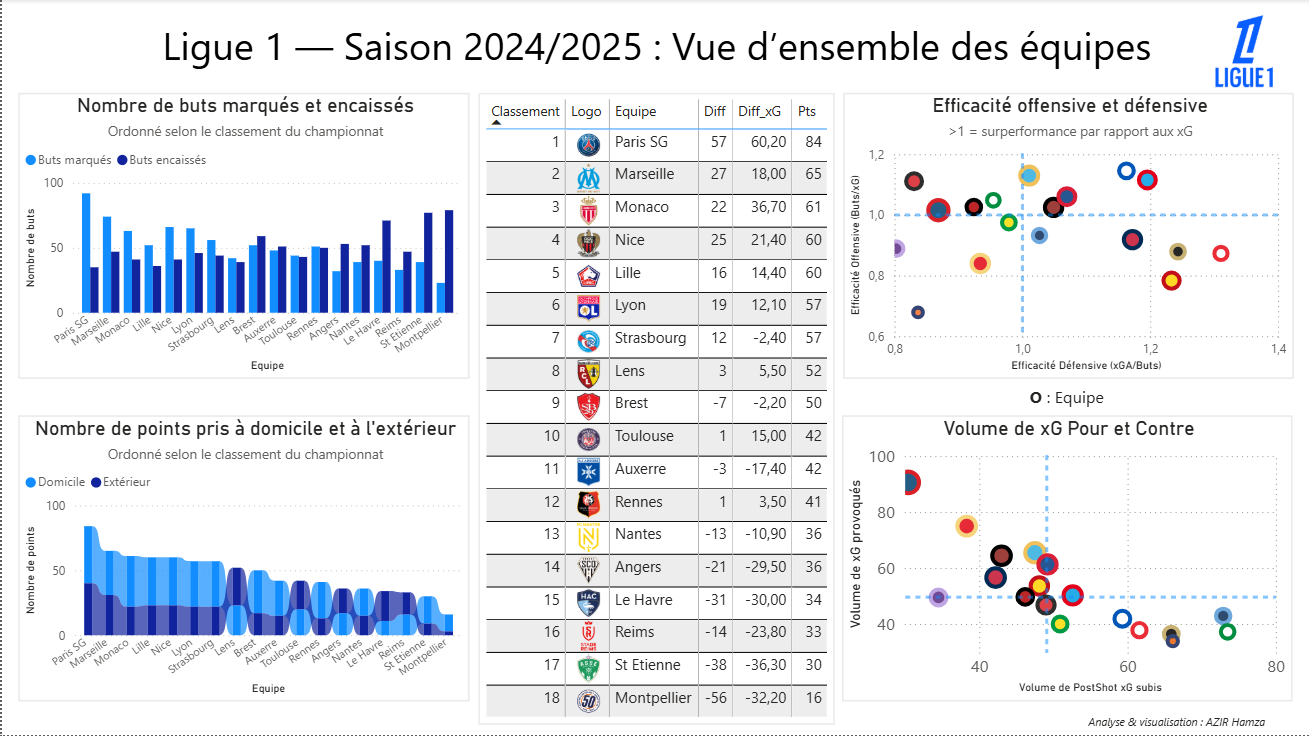

What the dashboard file says about the page in this screenshot:
{"tool":"powerbi","page":{"name":"OverView","canvas":[1280,720],"ordinal":0},"visuals":[{"type":"tableEx","fields":{"Values":["teams_ligue1_2024_25.Rang_Reel","Logo L1.Logo","teams_ligue1_2024_25.Equipe","teams_ligue1_2024_25.GD","teams_ligue1_2024_25.Diff_xG","Sum(teams_ligue1_2024_25.Pts)"]},"box":[465.7,92,349,618],"z":0},{"type":"scatterChart","title":"Efficacité offensive et défensive","fields":{"X":["teams_ligue1_2024_25.Efficacité_def"],"Y":["teams_ligue1_2024_25.Efficacité_off"],"Series":["teams_ligue1_2024_25.Equipe"],"Size":["Sum(teams_ligue1_2024_25.Pts)"]},"box":[822.9,92,441,280],"z":1000},{"type":"clusteredColumnChart","title":"Nombre de buts marqués et encaissés","fields":{"Category":["teams_ligue1_2024_25.Equipe"],"Y":["Sum(teams_ligue1_2024_25.Buts_marques)","Sum(teams_ligue1_2024_25.Buts_encaisses)"]},"box":[16,92,441.4,280],"z":2000},{"type":"ribbonChart","title":"Nombre de points pris à domicile et à l''extérieur","fields":{"Y":["Sum(teams_ligue1_2024_25.Points_dom)","Sum(teams_ligue1_2024_25.Points_ext)"],"Category":["teams_ligue1_2024_25.Equipe"]},"box":[16,407,441.4,280],"z":3000},{"type":"textbox","box":[144.3,15,992.9,61.4],"z":4000},{"type":"image","box":[1175,16.2,80,70],"z":5000},{"type":"textbox","box":[997,373,90.5,31.8],"z":6000},{"type":"scatterChart","title":"Volume de xG Pour et Contre","fields":{"Series":["teams_ligue1_2024_25.Equipe"],"Size":["Sum(teams_ligue1_2024_25.Pts)"],"Y":["Sum(teams_ligue1_2024_25.xG_total)"],"X":["teams_ligue1_2024_25.xGA_total"]},"box":[822,407,441,280],"z":7000},{"type":"textbox","box":[1058,692,188,28],"z":8000}]}

Visuals, with their boxes in screenshot pixels (x1, y1, x2, y2), scaled from the page's 1280x720 canvas onto the 1309x736 screenshot:
tableEx - teams_ligue1_2024_25.Rang_Reel x Logo L1.Logo: box(476, 94, 833, 726)
"Efficacité offensive et défensive" scatterChart: box(842, 94, 1293, 380)
"Nombre de buts marqués et encaissés" clusteredColumnChart: box(16, 94, 468, 380)
"Nombre de points pris à domicile et à l''extérieur" ribbonChart: box(16, 416, 468, 702)
textbox: box(148, 15, 1163, 78)
image: box(1202, 17, 1283, 88)
textbox: box(1020, 381, 1112, 414)
"Volume de xG Pour et Contre" scatterChart: box(841, 416, 1292, 702)
textbox: box(1082, 707, 1274, 735)
